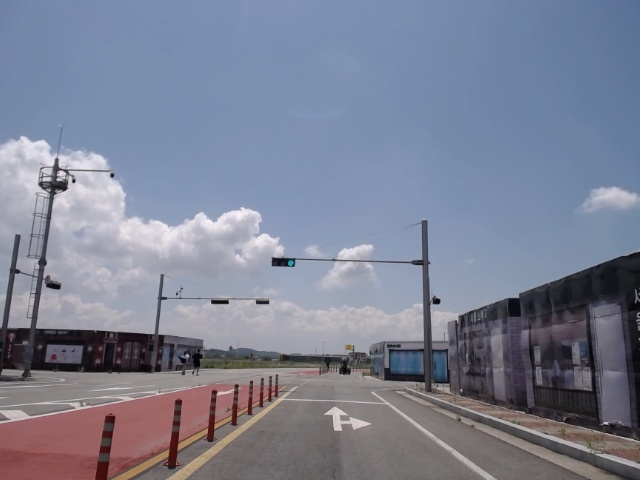green_3: (272, 258, 295, 266)
